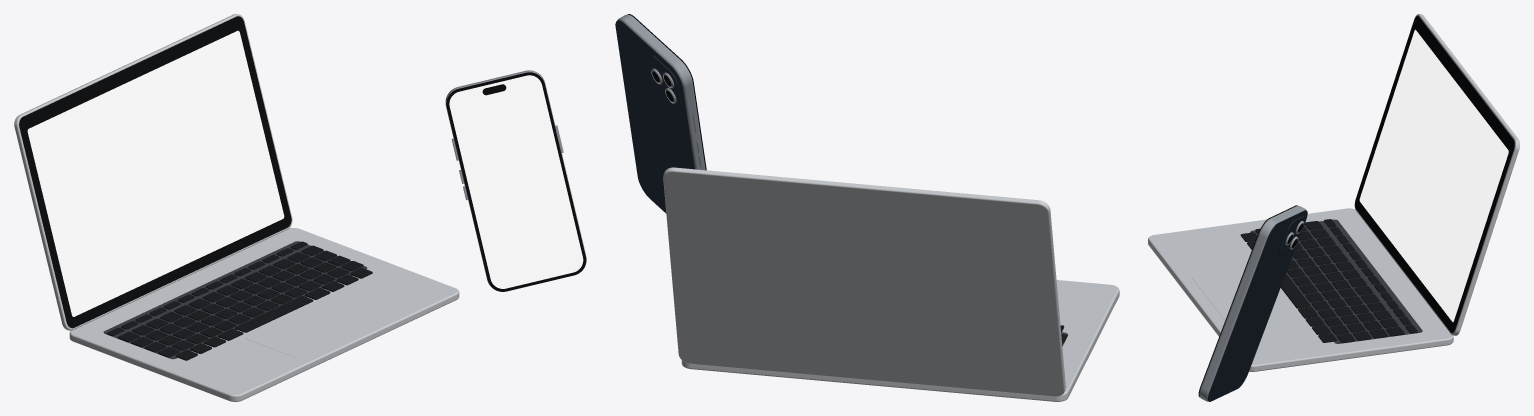
Rendered from devices.glb.
3 renders of one model, left to right at view 1: azimuth 30°, elevation 25°; view 2: azimuth 150°, elevation 25°; view 3: azimuth 270°, elevation 25°, orthographic. The views are drawn at different scales.
Visible parts, largest first — view 1: screen_laptop, laptop_aluminium, screen_phone, laptop_keycap, laptop_lid_ceramic_black, laptop_aluminium_dark, laptop_lid_aluminium, phone_ceramic_black, phone_titanium; view 2: laptop_lid_aluminium, phone_back_glass, laptop_aluminium, phone_titanium; view 3: screen_laptop, laptop_aluminium, laptop_keycap, phone_back_glass, laptop_lid_ceramic_black, laptop_aluminium_dark, phone_titanium, laptop_lid_aluminium.
Boxes of the visible parts, x1,y1,x2,y2 form: screen_laptop: (27,30,284,316); laptop_aluminium: (69,228,459,401); screen_phone: (449,75,583,288); laptop_keycap: (107,241,372,360); laptop_lid_ceramic_black: (19,16,291,328); laptop_aluminium_dark: (103,241,367,359); laptop_lid_aluminium: (14,14,292,330); phone_ceramic_black: (446,72,586,291); phone_titanium: (445,70,586,291); laptop_lid_aluminium: (663,167,1065,396); phone_back_glass: (615,20,694,213); laptop_aluminium: (681,280,1119,401); phone_titanium: (617,14,705,170); screen_laptop: (1359,29,1508,321); laptop_aluminium: (1148,208,1453,371); laptop_keycap: (1240,219,1417,342); phone_back_glass: (1208,210,1307,401); laptop_lid_ceramic_black: (1355,16,1514,332); laptop_aluminium_dark: (1250,219,1422,343); phone_titanium: (1199,205,1305,401); laptop_lid_aluminium: (1354,14,1519,335).
Bounding box in the file's own units: 3.77 × 1.57 × 2.73.
